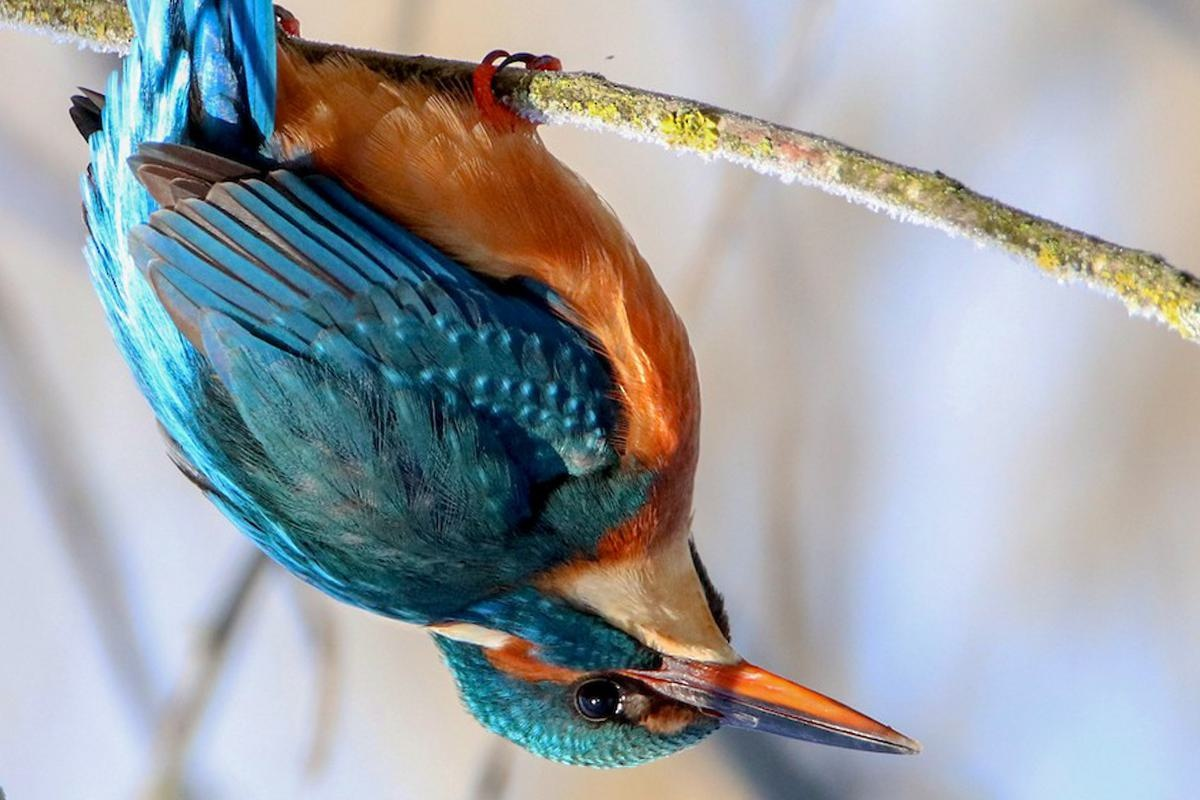kingfisher: (1, 1, 938, 780)
